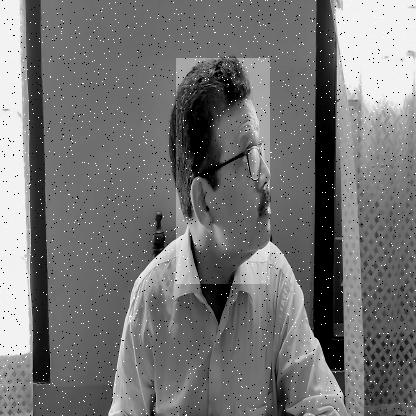Distracted: (176, 58, 270, 284)
